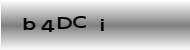4: (40, 19, 54, 33)
C: (73, 15, 88, 29)
D: (56, 16, 72, 29)
b: (22, 17, 36, 31)
i: (99, 18, 105, 32)
